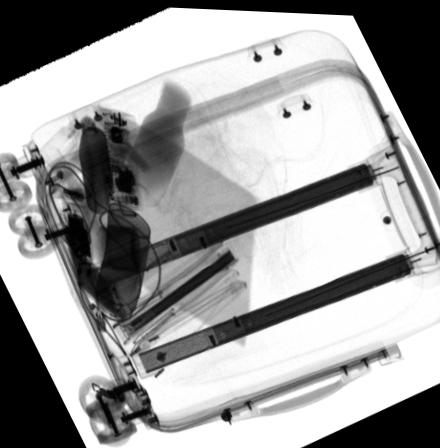Powerbank: (63, 236, 128, 329)
